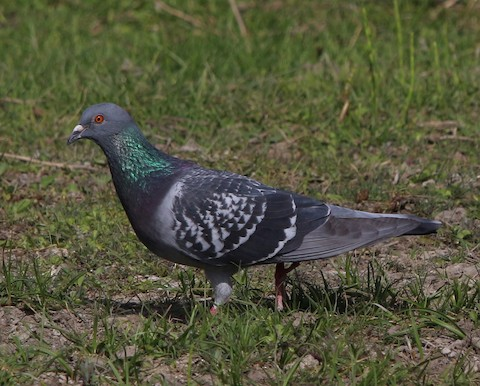pigeon: (65, 95, 450, 319)
